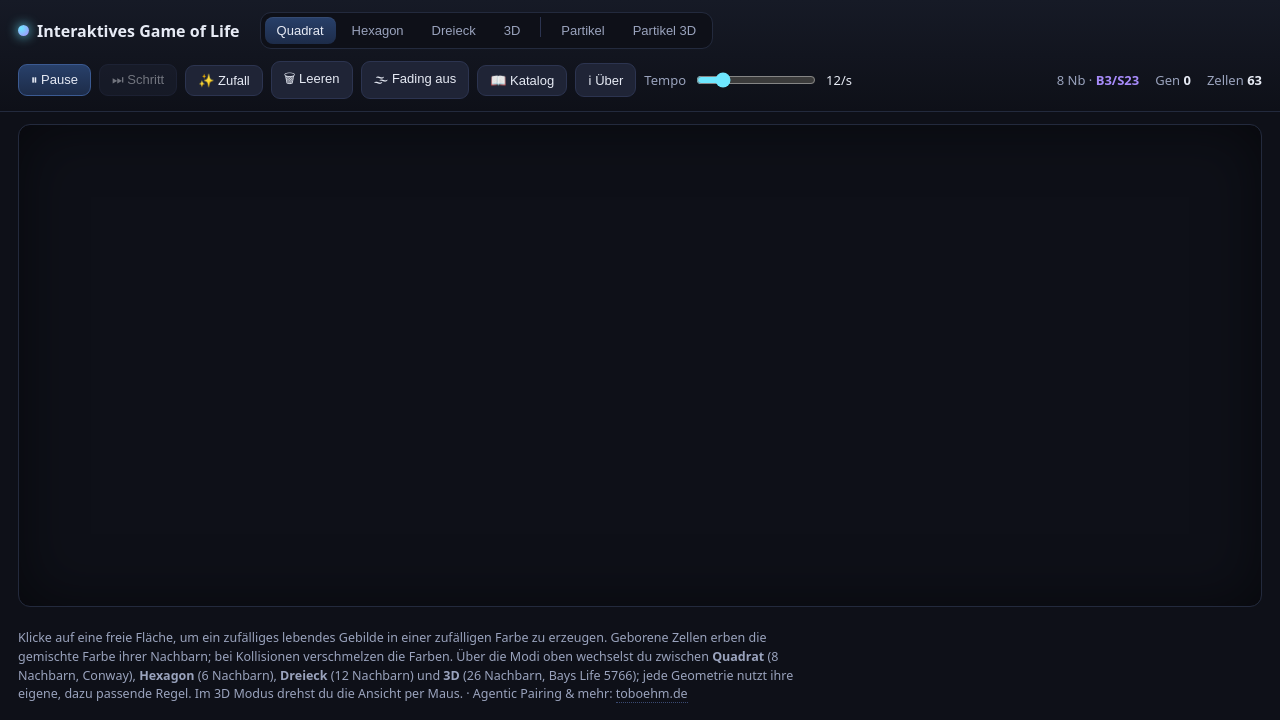
it: App UI › updates the speed readout from the slider
Set the slider to "30" at {"x": 755, "y": 80}, box [696,72,816,88]
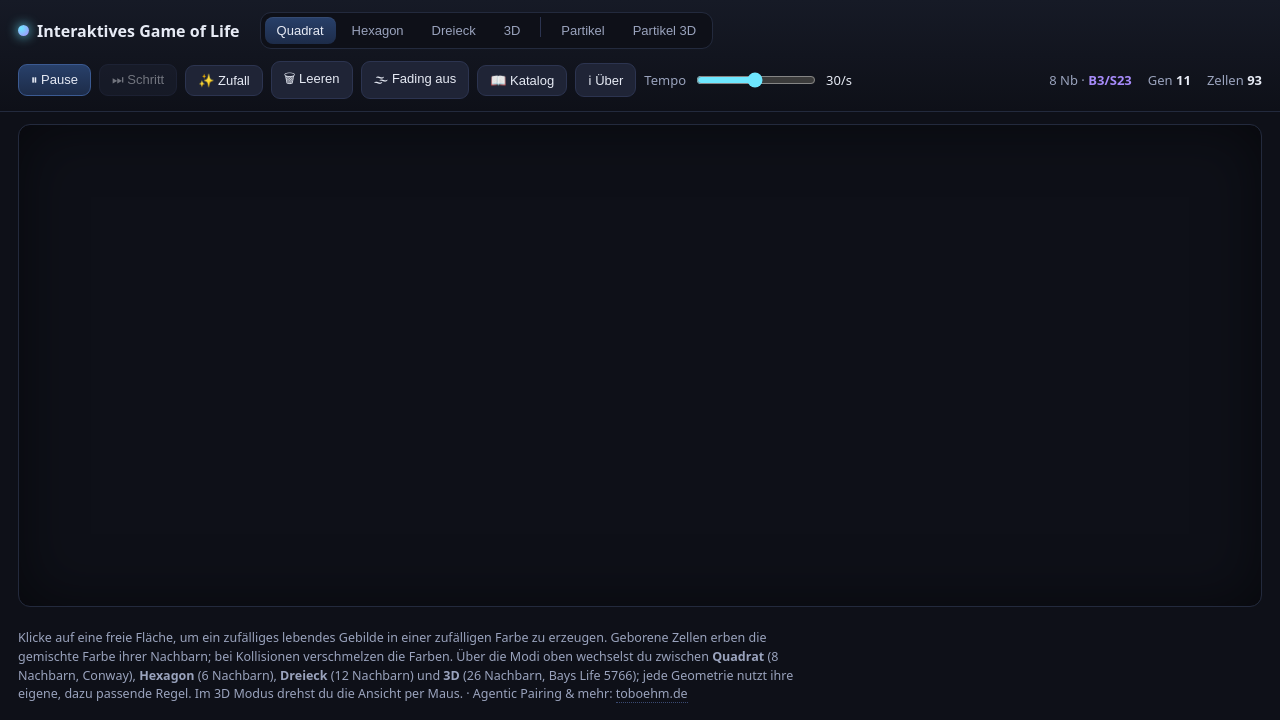
Expected: the text "30/s" is shown, [826,71,852,89]
